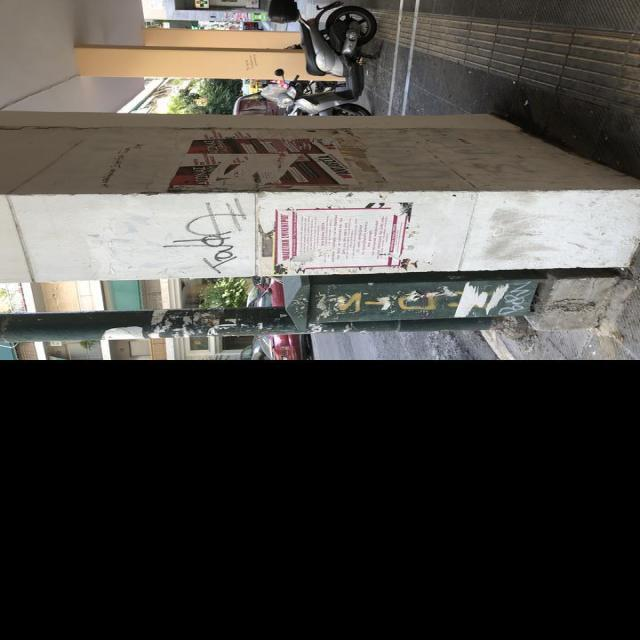nonspitting: (164, 197, 248, 274)
